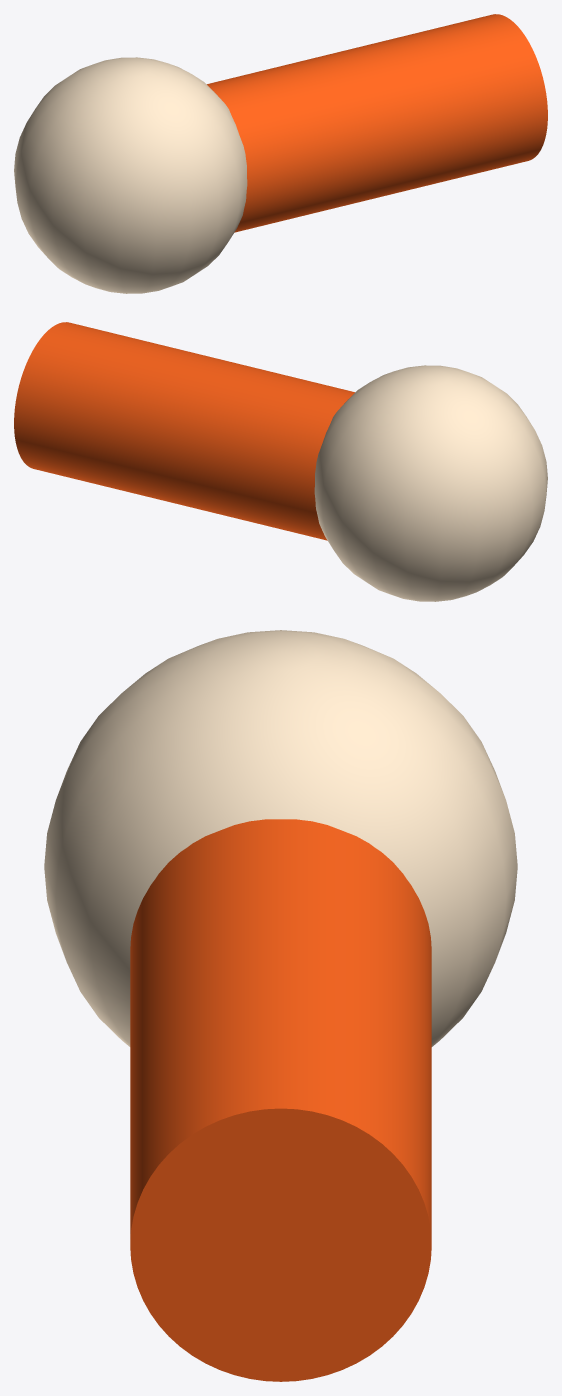
File: Rdhand.obj
3 renders of one model, top to bottom at view 1: azimuth 30°, elevation 25°; view 2: azimuth 150°, elevation 25°; view 3: azimuth 270°, elevation 25°, orthographic. The views are drawn at different scales.
Parts seen in each view (by area): view 1: pCylinder8, pSphere3; view 2: pCylinder8, pSphere3; view 3: pCylinder8, pSphere3.
Boxes of the visible parts, <box> form: pCylinder8: <box>207,14,547,232</box>; pSphere3: <box>14,57,247,293</box>; pCylinder8: <box>14,322,354,540</box>; pSphere3: <box>314,365,547,601</box>; pCylinder8: <box>130,819,431,1381</box>; pSphere3: <box>44,630,517,1046</box>.
Bounding box in the file's own units: 1.77 × 0.7558 × 0.7558.
